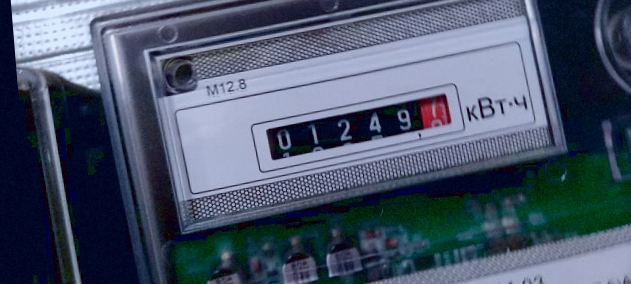0: (272, 123, 293, 151)
1: (304, 120, 321, 146)
2: (333, 115, 356, 143)
4: (365, 107, 385, 135)
7: (424, 94, 441, 120)
9: (394, 105, 414, 131)
screen: (242, 84, 480, 177)
